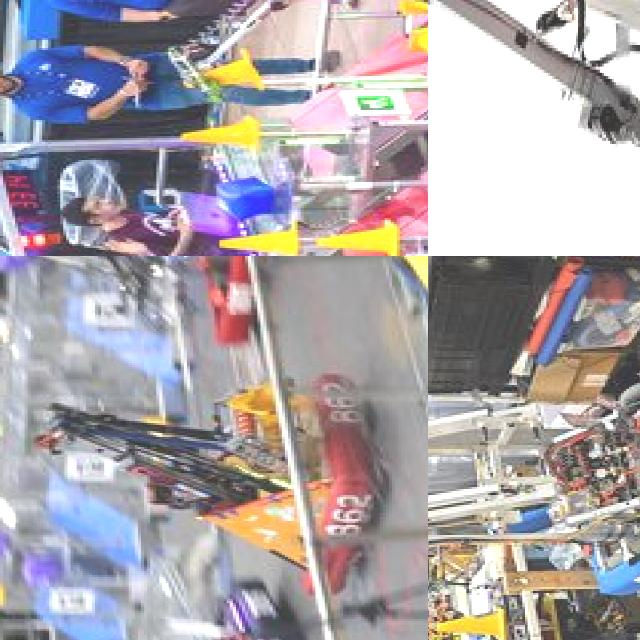FRC-Robots: (428, 339, 640, 599), (428, 0, 640, 256), (51, 375, 408, 527), (152, 0, 428, 110), (0, 256, 289, 333), (108, 577, 290, 640)
